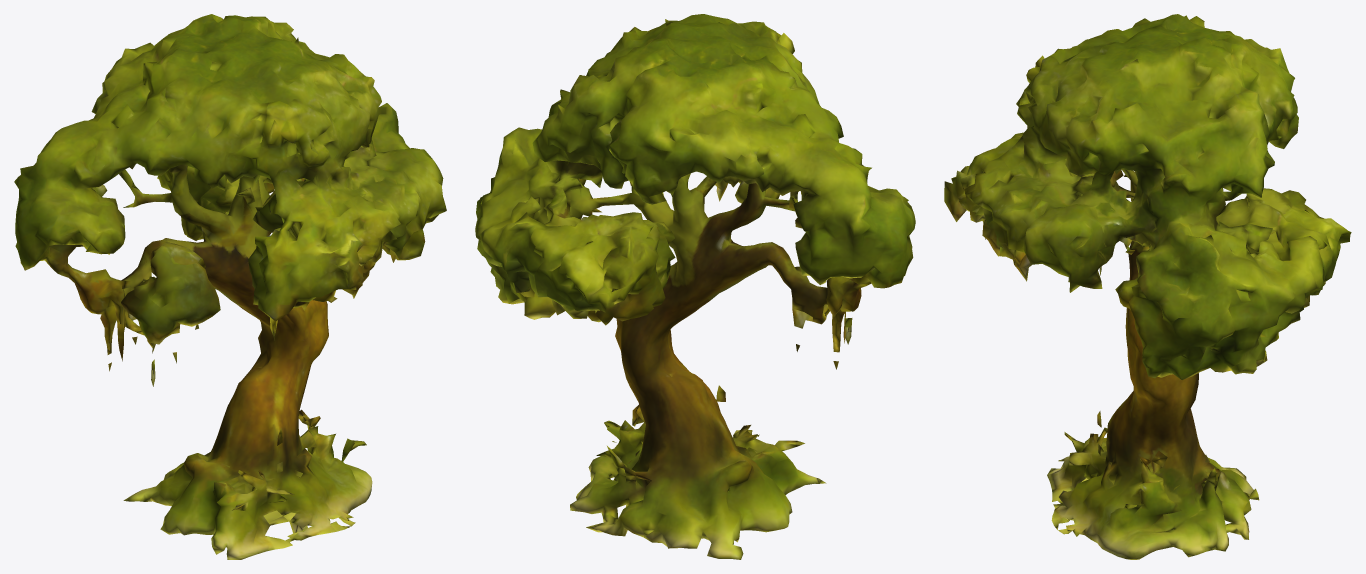
File: Enchanted_Tree__1016012212_texture.fbx
3 views of the same model, side by side, from view 1: azimuth 30°, elevation 25°; view 2: azimuth 150°, elevation 25°; view 3: azimuth 270°, elevation 25° (orthographic).
Visible parts, largest first — view 1: Mesh1.0; view 2: Mesh1.0; view 3: Mesh1.0.
Part boxes in pixels (x1,y1,x2,y2): Mesh1.0: [14, 14, 446, 559]; Mesh1.0: [475, 14, 915, 559]; Mesh1.0: [944, 14, 1351, 559].
Size of the model in its own units: 178 by 197 by 152.
Materials: 1 (1 with a texture image).
